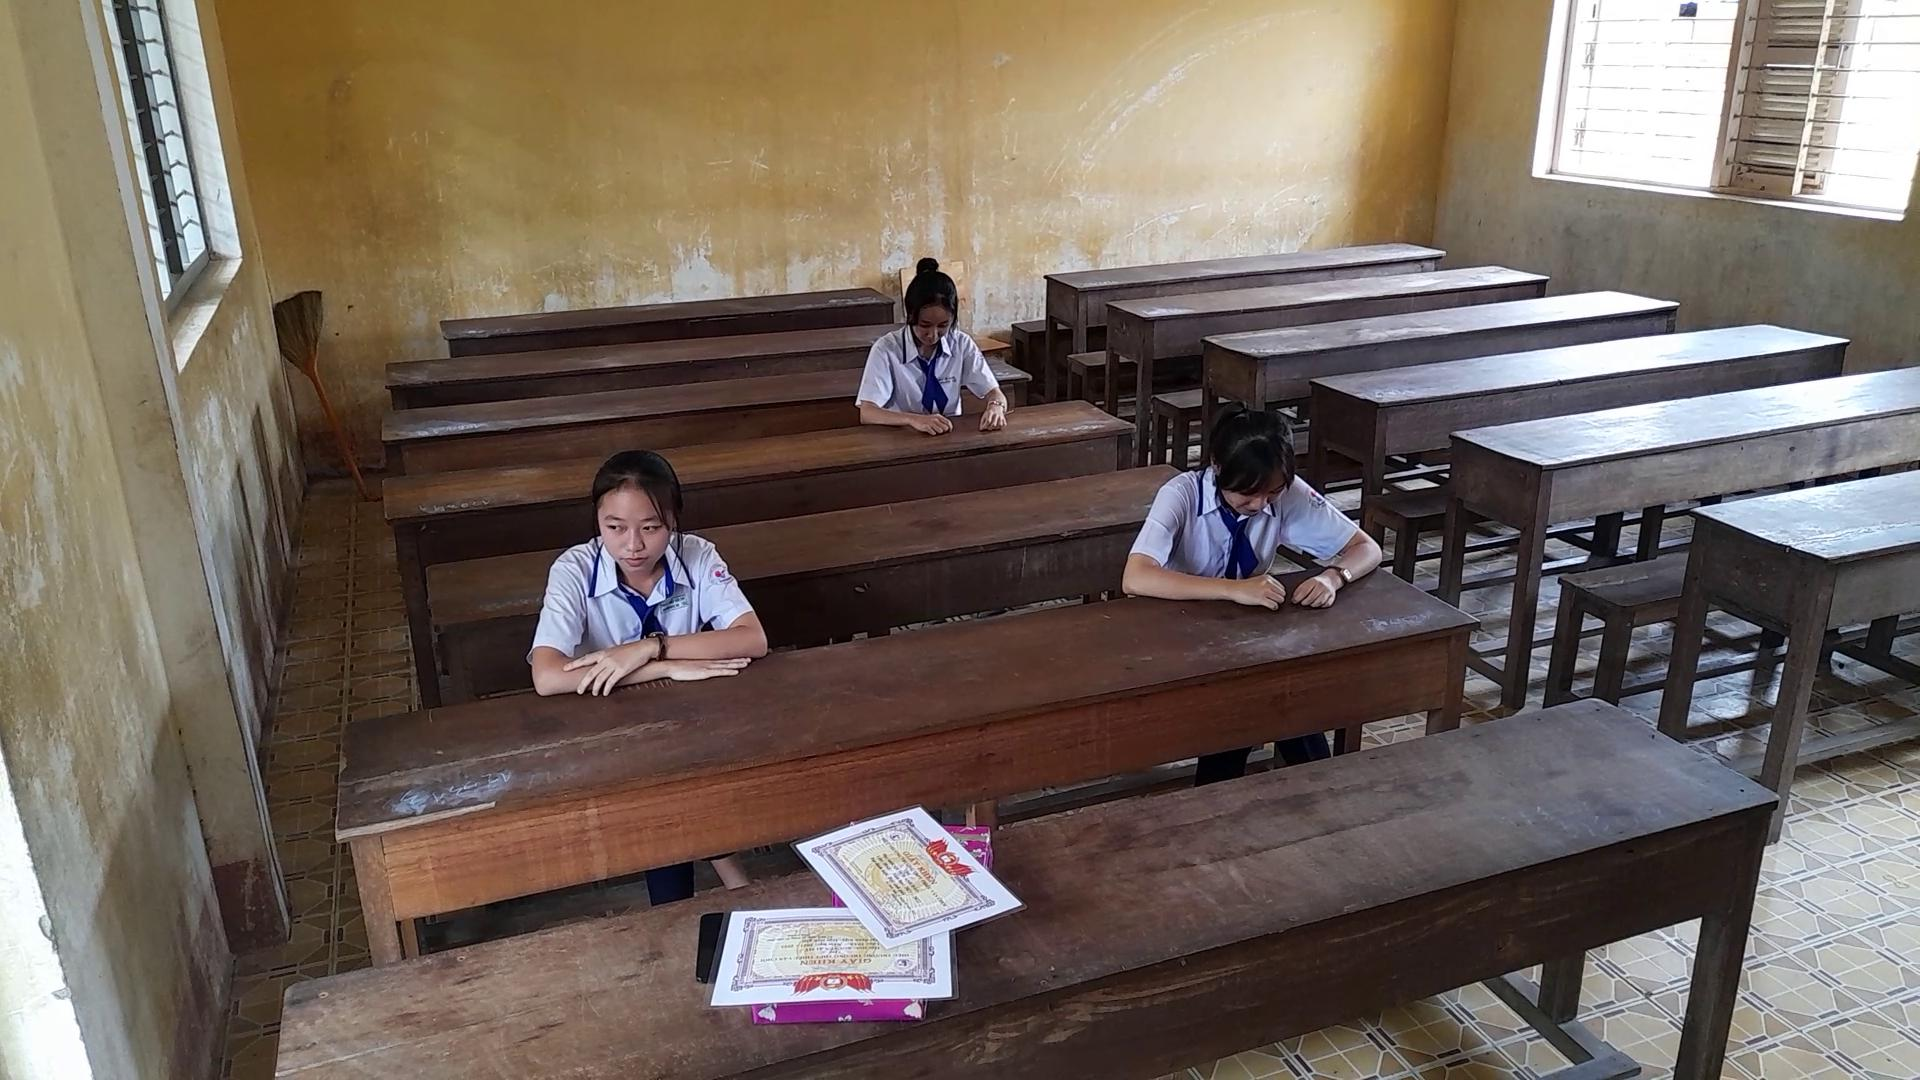Bend Over The Desk: (881, 233, 1004, 382), (1184, 382, 1307, 530)
Normal: (518, 436, 778, 702)
